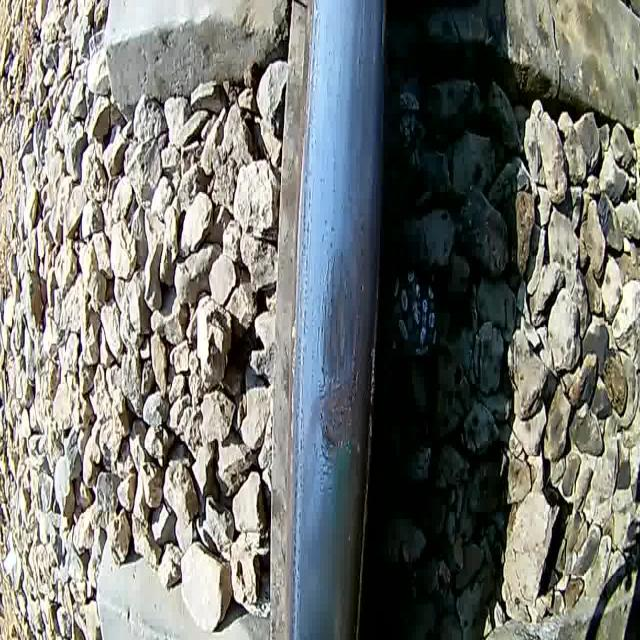Squats: (314, 242, 367, 478)
